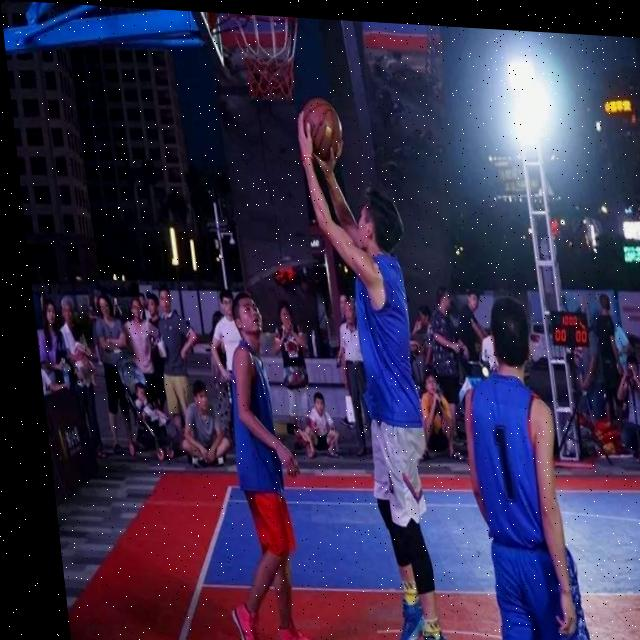basketball: (304, 99, 345, 159)
hoop: (224, 13, 307, 102)
